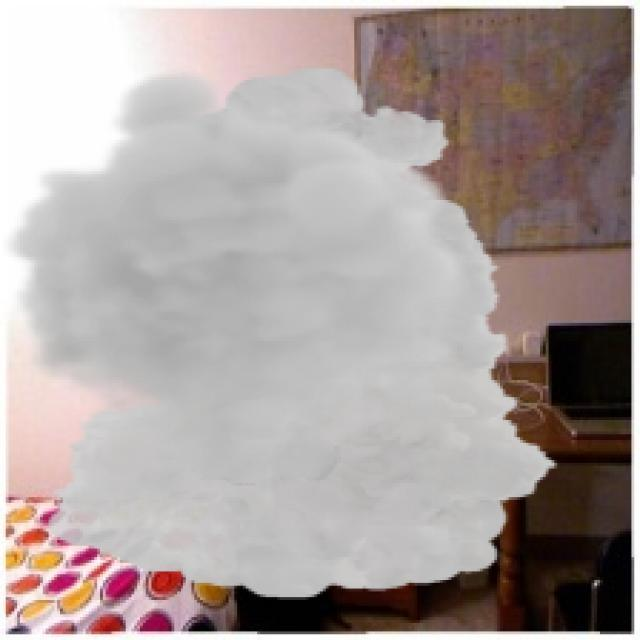Smoke: (3, 65, 560, 600)
